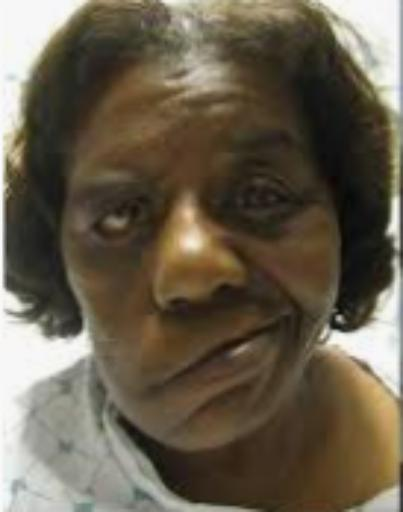left_eye: (222, 179, 299, 214)
left_lip_corner: (269, 307, 303, 340)
right_eye: (86, 199, 152, 237)
right_lip_corner: (143, 362, 188, 395)
